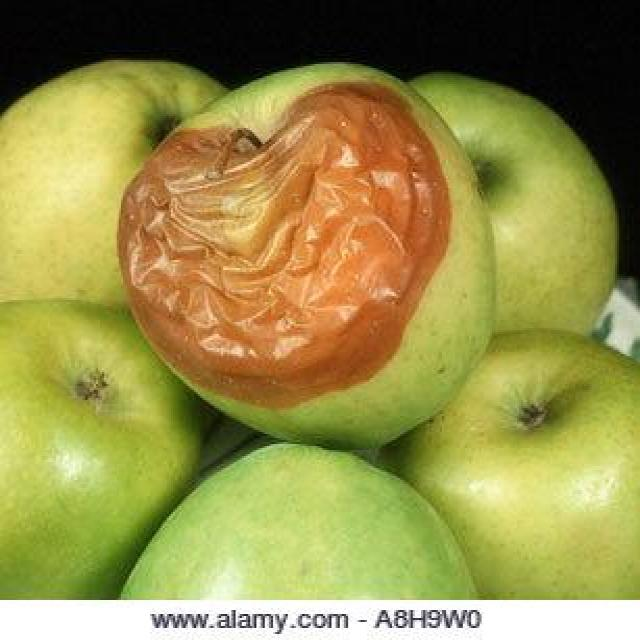Fresh Apple: (112, 444, 484, 602), (423, 346, 640, 600), (0, 291, 146, 616)
Rotten: (112, 57, 506, 461)
